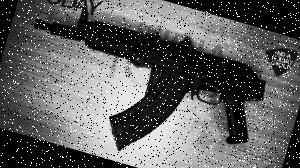rifle: (3, 0, 281, 166)
